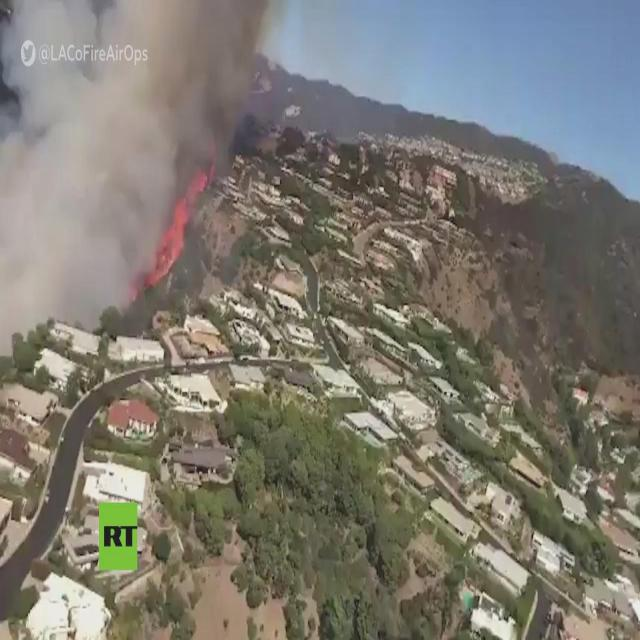Fire: (133, 172, 210, 289)
